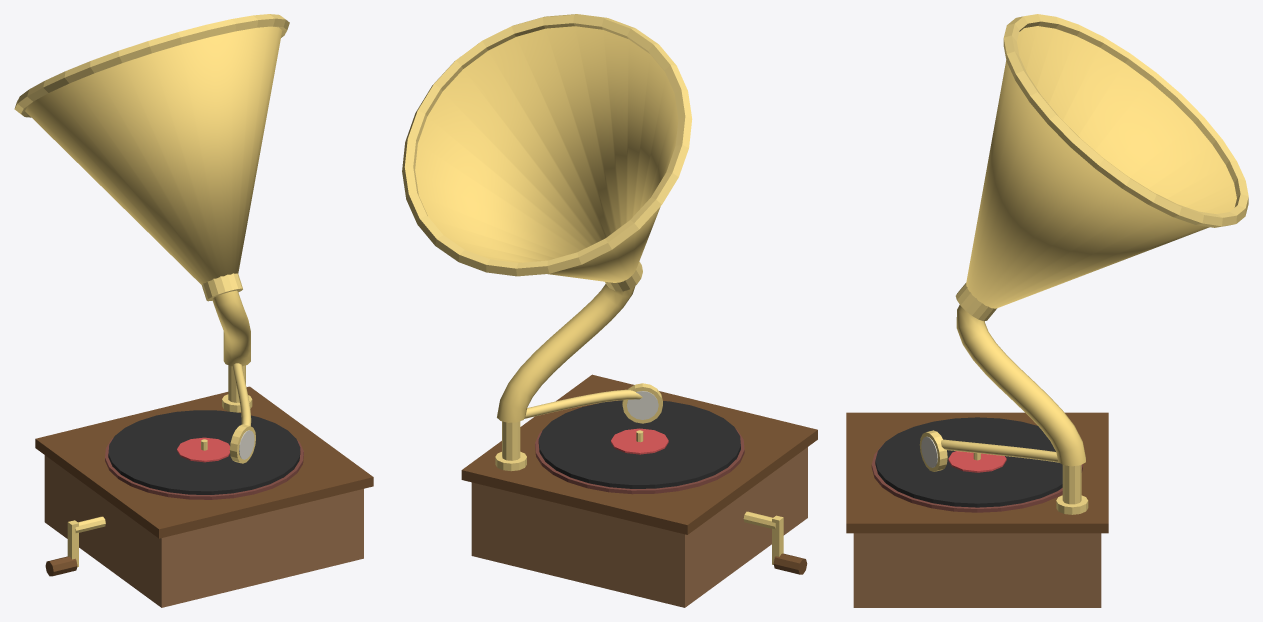
Rendered from gramophone.glb.
3 views of the same model, side by side, from view 1: azimuth 30°, elevation 25°; view 2: azimuth 150°, elevation 25°; view 3: azimuth 270°, elevation 25° (orthographic). The views are drawn at different scales.
Parts seen in each view (by area): view 1: Gramophone; view 2: Gramophone; view 3: Gramophone.
Part boxes in pixels (x1=…): Gramophone: x1=14, y1=14, x2=373, y2=607; Gramophone: x1=402, y1=14, x2=817, y2=607; Gramophone: x1=846, y1=14, x2=1248, y2=607.
Size of the model in its own units: 0.5 by 0.8015 by 0.5522.
